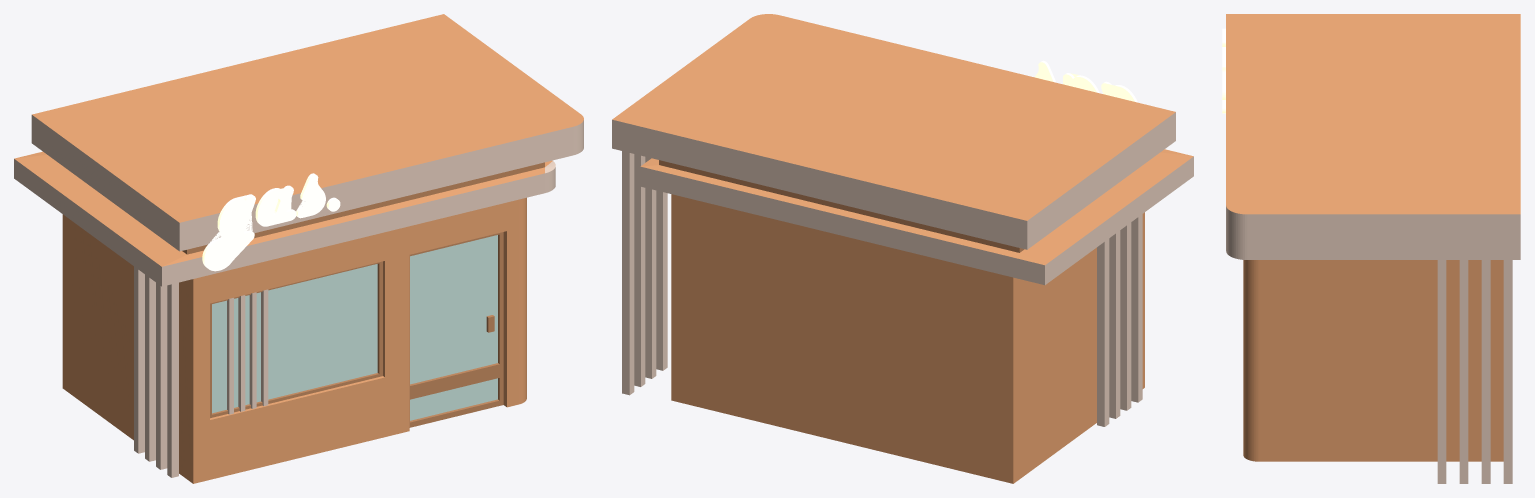
The model's file is GasStationShop.fbx.
The picture shows the model from 3 angles, left to right: view 1: azimuth 30°, elevation 25°; view 2: azimuth 150°, elevation 25°; view 3: azimuth 270°, elevation 25°; orthographic projection.
Visible parts, largest first — view 1: gas_station_shop; view 2: gas_station_shop; view 3: gas_station_shop.
Part boxes in pixels (left/top/right/bottom): gas_station_shop: left=14, top=14, right=583, bottom=483; gas_station_shop: left=612, top=14, right=1193, bottom=483; gas_station_shop: left=1222, top=14, right=1520, bottom=483.
Size of the model in its own units: 585 by 378 by 353.
